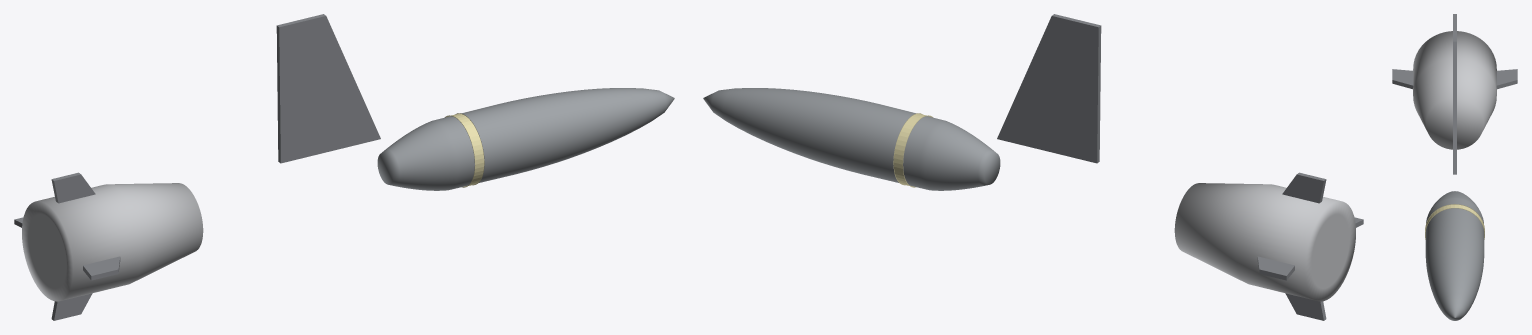
The model's file is RU_ASM_P5_LOD0.fbx.
3 views of the same model, side by side, from view 1: azimuth 30°, elevation 25°; view 2: azimuth 150°, elevation 25°; view 3: azimuth 270°, elevation 25° (orthographic). The views are drawn at different scales.
Visible parts, largest first — view 1: WPN_RU_ASM_P5_LOD0_Body, WPN_RU_ASM_P5_LOD0_Tail, WPN_RU_ASM_P5_LOD0_Wings, WPN_RU_ASM_P5_LOD0_Fins, WPN_RU_ASM_P5_LOD0_Marking; view 2: WPN_RU_ASM_P5_LOD0_Body, WPN_RU_ASM_P5_LOD0_Tail, WPN_RU_ASM_P5_LOD0_Wings, WPN_RU_ASM_P5_LOD0_Fins, WPN_RU_ASM_P5_LOD0_Marking; view 3: WPN_RU_ASM_P5_LOD0_Tail, WPN_RU_ASM_P5_LOD0_Body, WPN_RU_ASM_P5_LOD0_Fins, WPN_RU_ASM_P5_LOD0_Wings, WPN_RU_ASM_P5_LOD0_Marking.
Part boxes in pixels (x1,y1,x2,y2): WPN_RU_ASM_P5_LOD0_Body: (377, 88, 674, 190); WPN_RU_ASM_P5_LOD0_Tail: (22, 183, 203, 301); WPN_RU_ASM_P5_LOD0_Wings: (276, 14, 380, 163); WPN_RU_ASM_P5_LOD0_Fins: (14, 172, 120, 320); WPN_RU_ASM_P5_LOD0_Marking: (445, 113, 484, 187); WPN_RU_ASM_P5_LOD0_Body: (703, 88, 1000, 190); WPN_RU_ASM_P5_LOD0_Tail: (1174, 183, 1355, 301); WPN_RU_ASM_P5_LOD0_Wings: (997, 14, 1101, 163); WPN_RU_ASM_P5_LOD0_Fins: (1257, 172, 1363, 320); WPN_RU_ASM_P5_LOD0_Marking: (893, 113, 932, 187); WPN_RU_ASM_P5_LOD0_Tail: (1413, 31, 1496, 149); WPN_RU_ASM_P5_LOD0_Body: (1425, 191, 1484, 320); WPN_RU_ASM_P5_LOD0_Fins: (1392, 14, 1517, 89); WPN_RU_ASM_P5_LOD0_Wings: (1453, 23, 1456, 174); WPN_RU_ASM_P5_LOD0_Marking: (1425, 204, 1484, 239).
Bounding box in the file's own units: 10 × 2.13 × 3.64.
